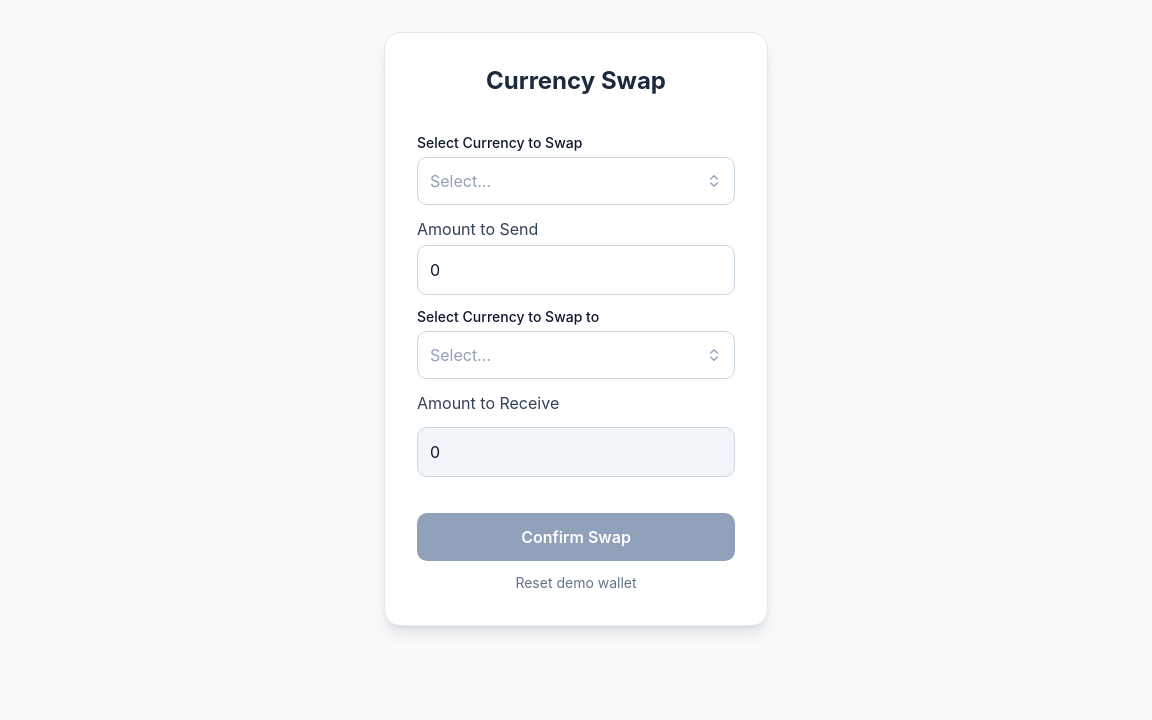
Swap form › shows the balance and fills it with Max
Click the dropdown named "Select Currency to Swap". click: x=460, y=181
box: x1=417 y1=157 x2=735 y2=205
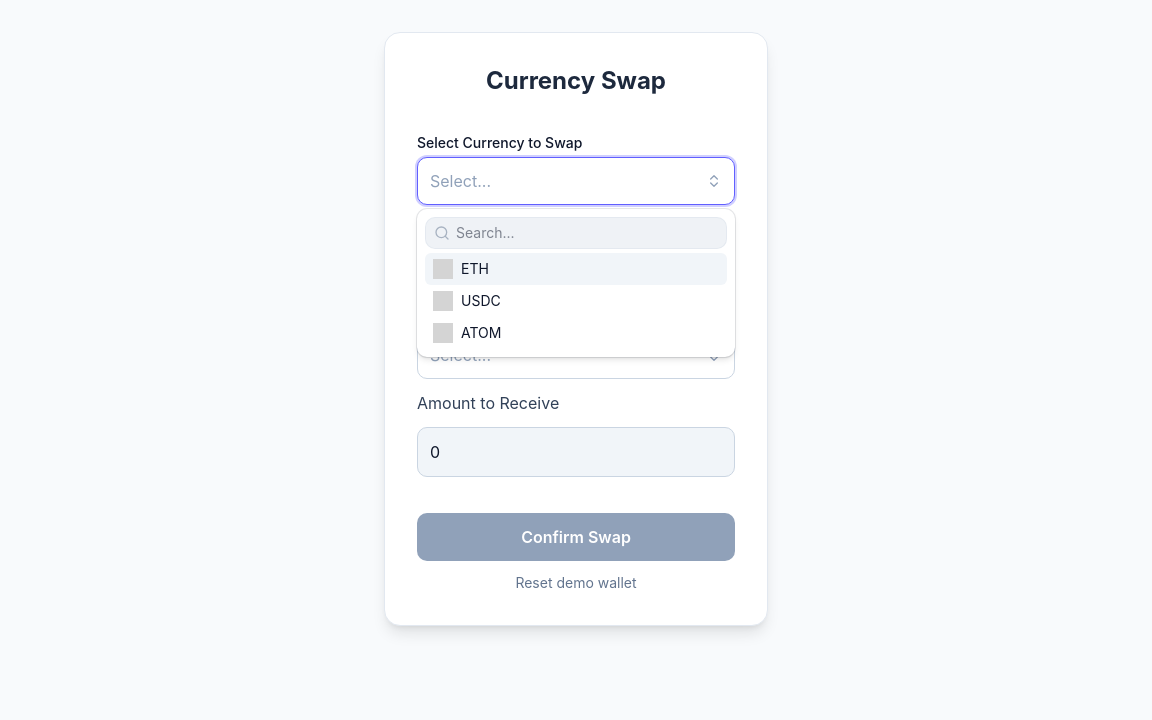
Click the option "ETH". click: x=443, y=269
box: x1=425 y1=253 x2=727 y2=285
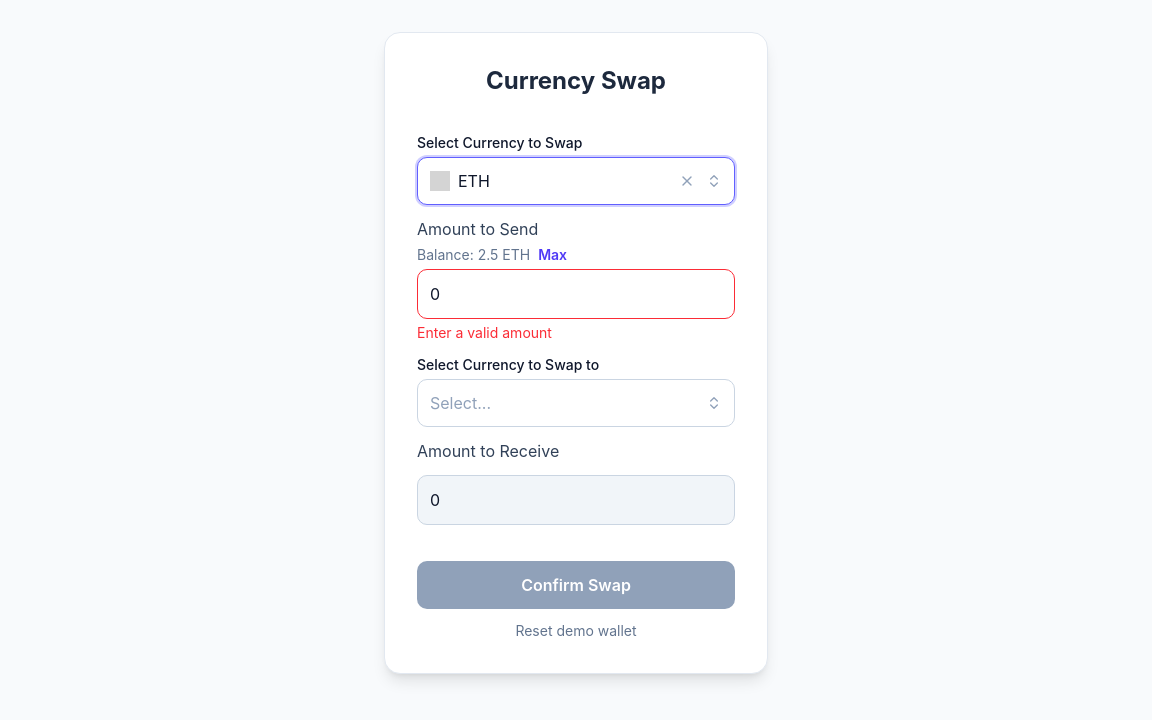
Click the dropdown named "Select Currency to Swap to". click: x=460, y=403
box: x1=417 y1=379 x2=735 y2=427
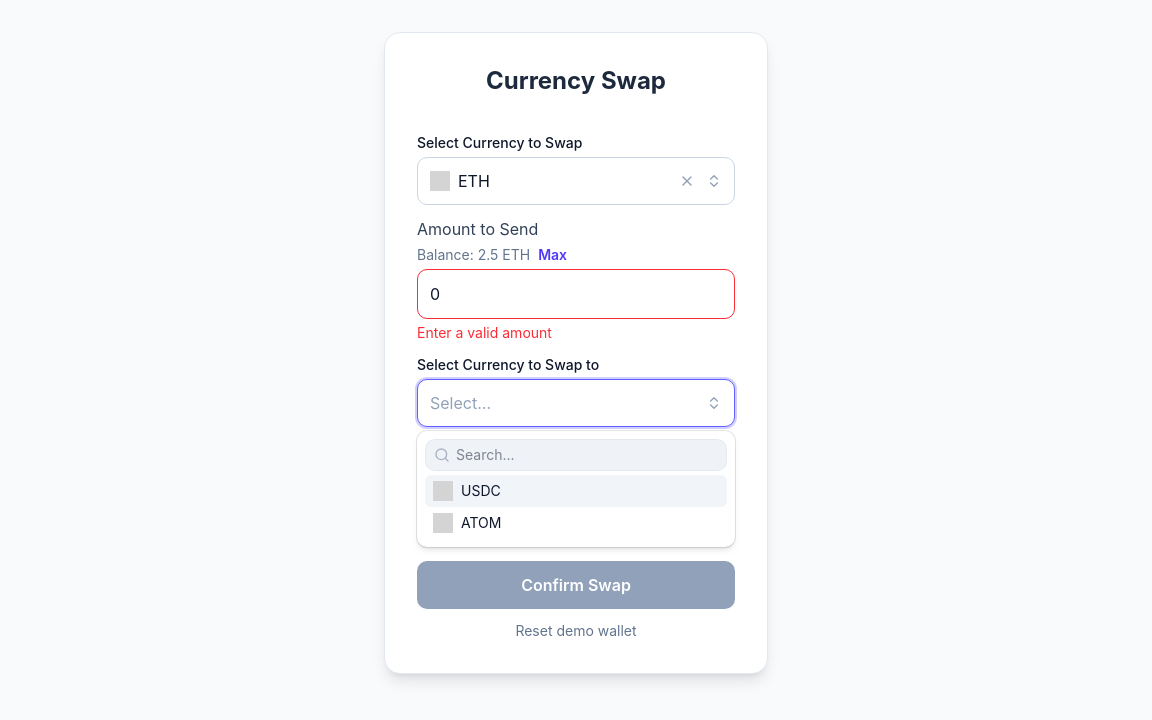
Click the option "USDC". click: x=481, y=490
box: x1=425 y1=475 x2=727 y2=507
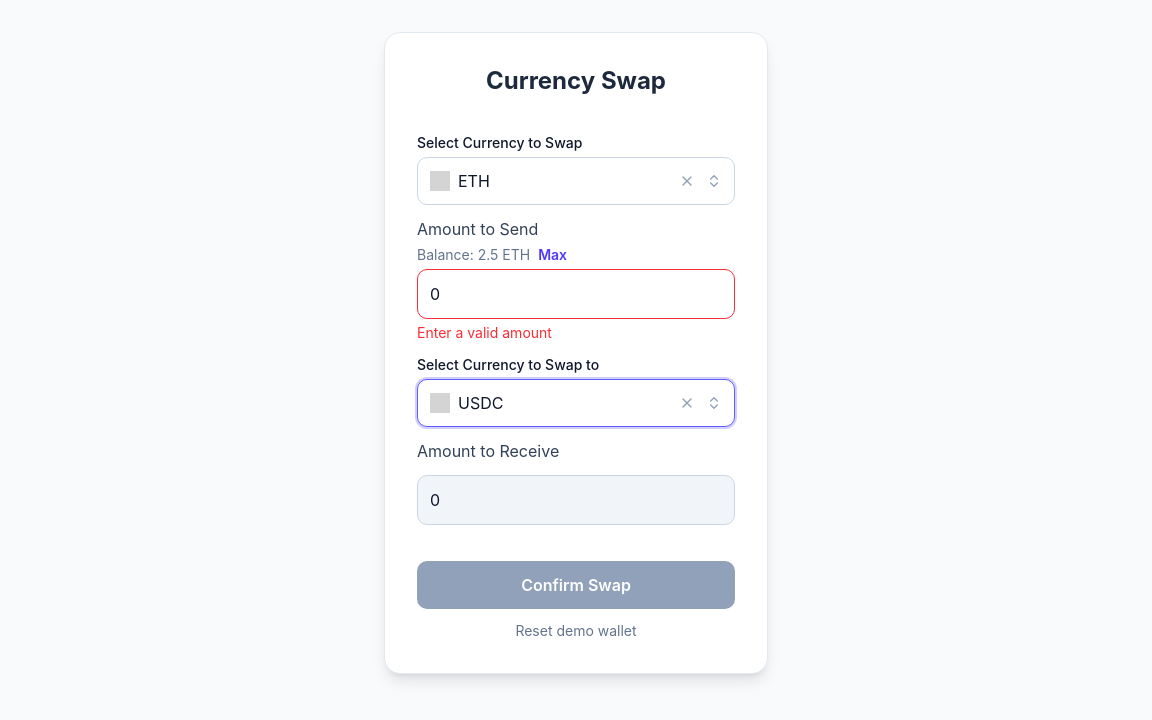
Replace the text in the field labelled "Amount to Send" with "1". click: x=576, y=294
box: x1=417 y1=269 x2=735 y2=319
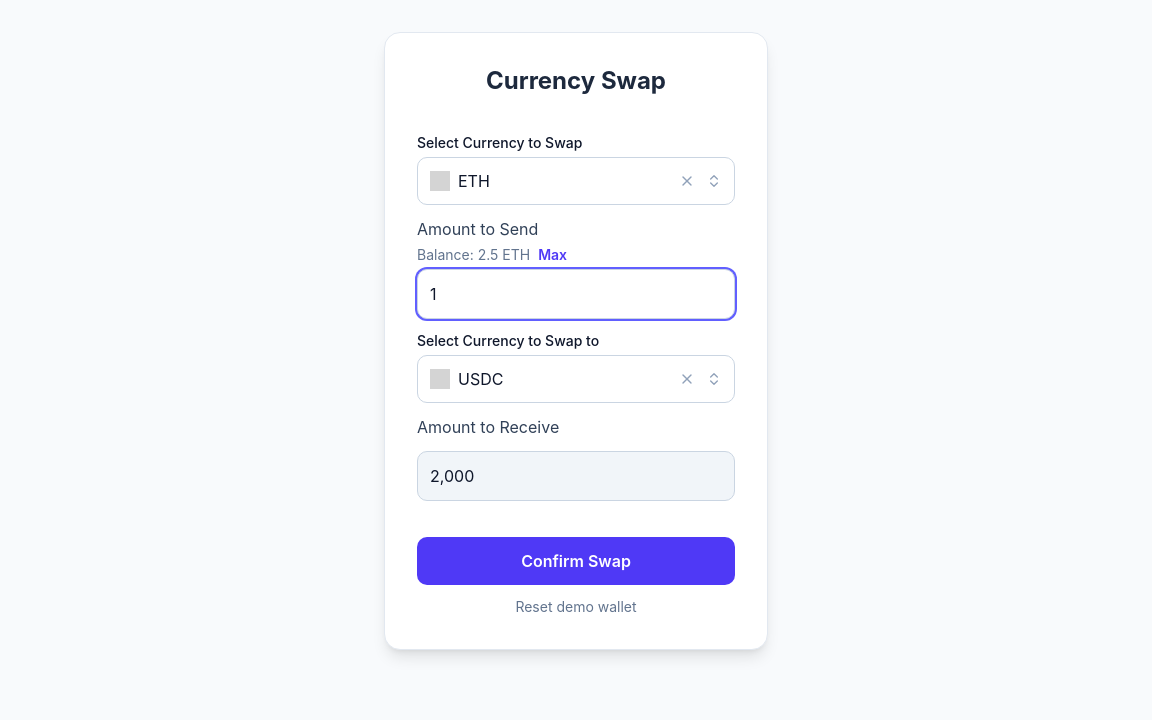
Check: the text "Balance: 2.5 ETH Max" is shown, box x1=417 y1=245 x2=567 y2=265
Click the button "Max". click: x=553, y=255
box: x1=538 y1=245 x2=567 y2=265
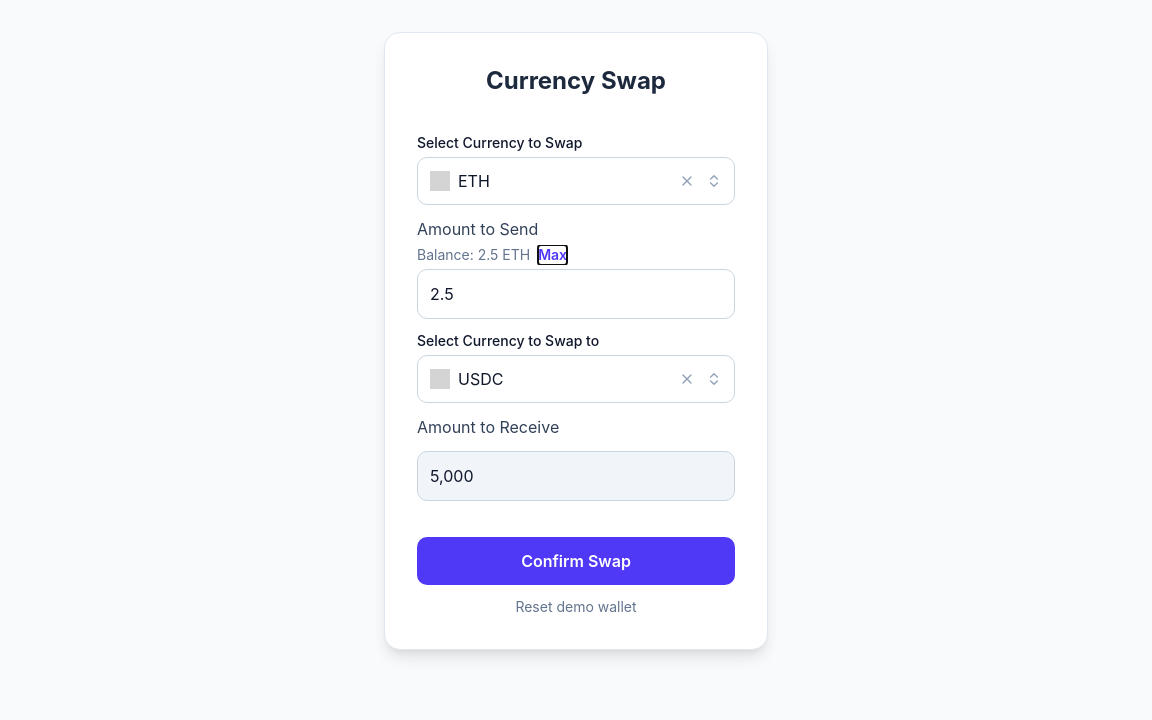
Check: the field labelled "Amount to Send" holds "2.5", box x1=417 y1=269 x2=735 y2=319
